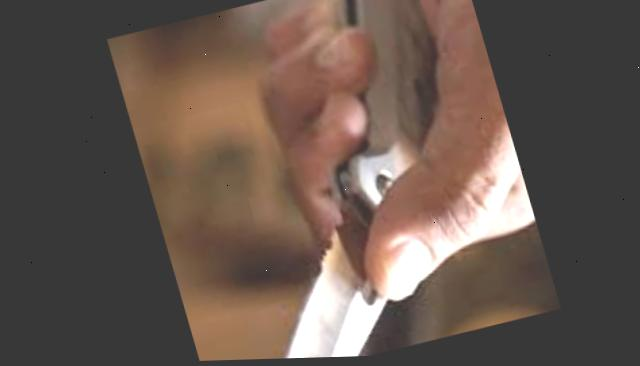pocket-knife: (146, 0, 529, 363)
